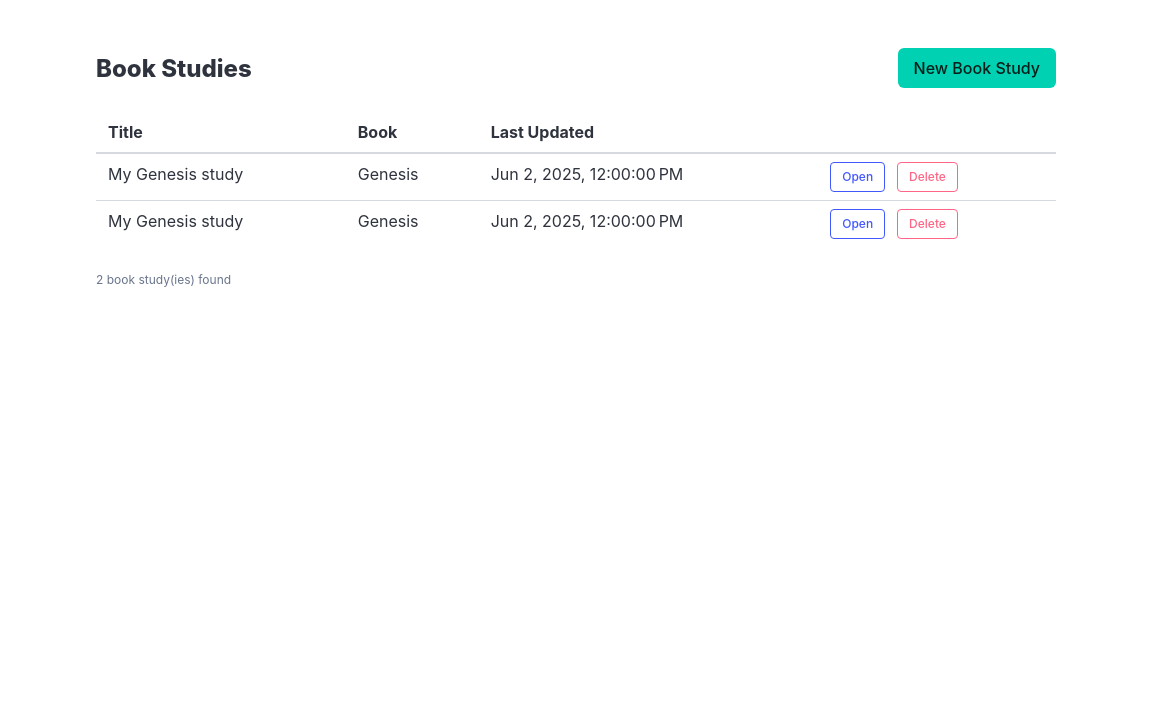
Test: BookStudyListComponent › should delete a book study and remove it from the list on confirm
Click the 1st button with test id "delete-book-study-button". click: click(928, 177)
box: [897,162,958,192]
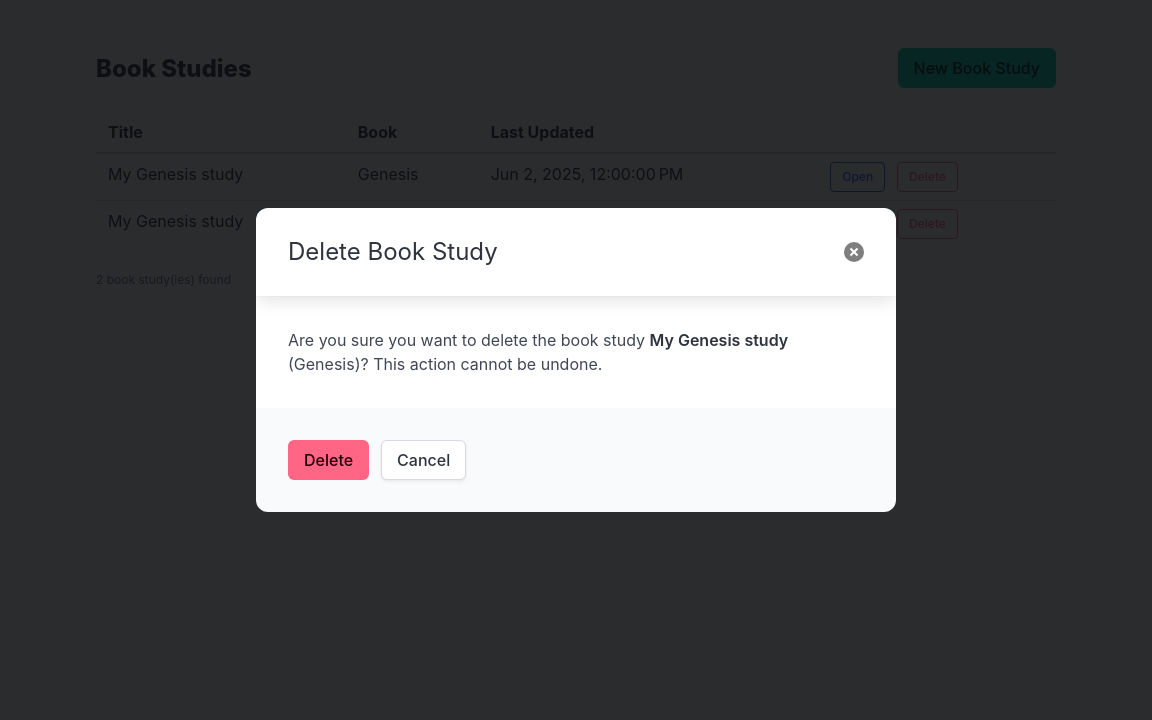
Click the button with test id "confirm-delete-button". click: click(329, 460)
box: [288,440,369,480]
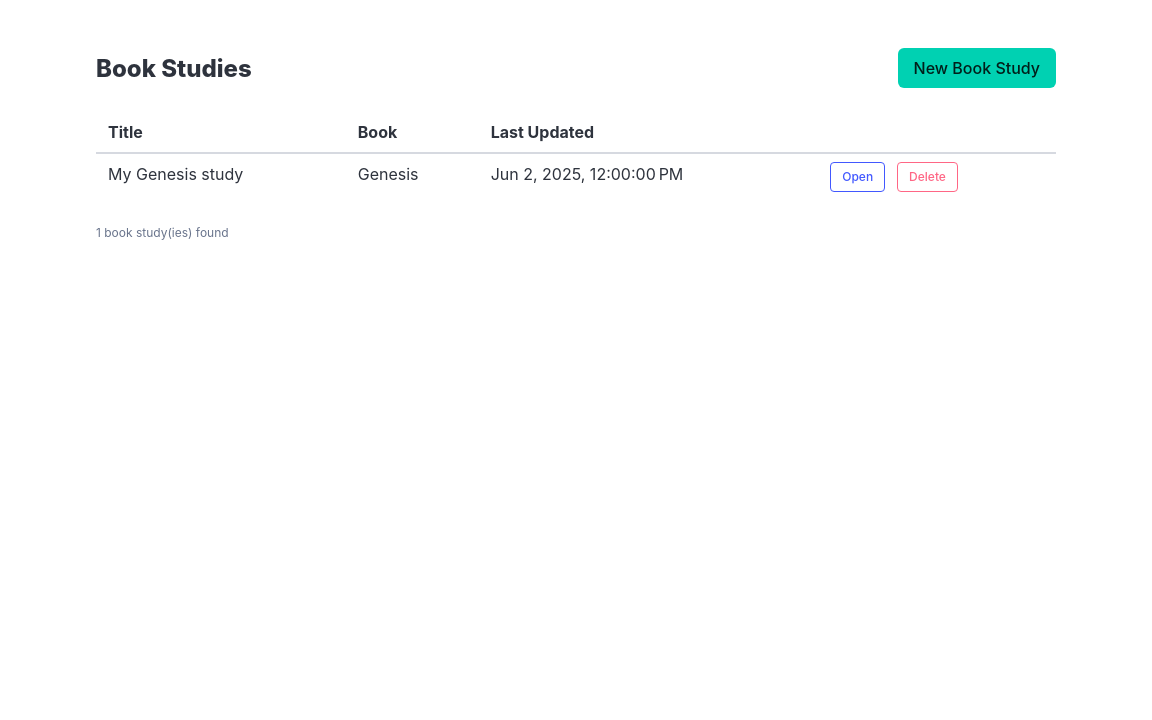
Check: the element with test id "delete-modal" is gone
